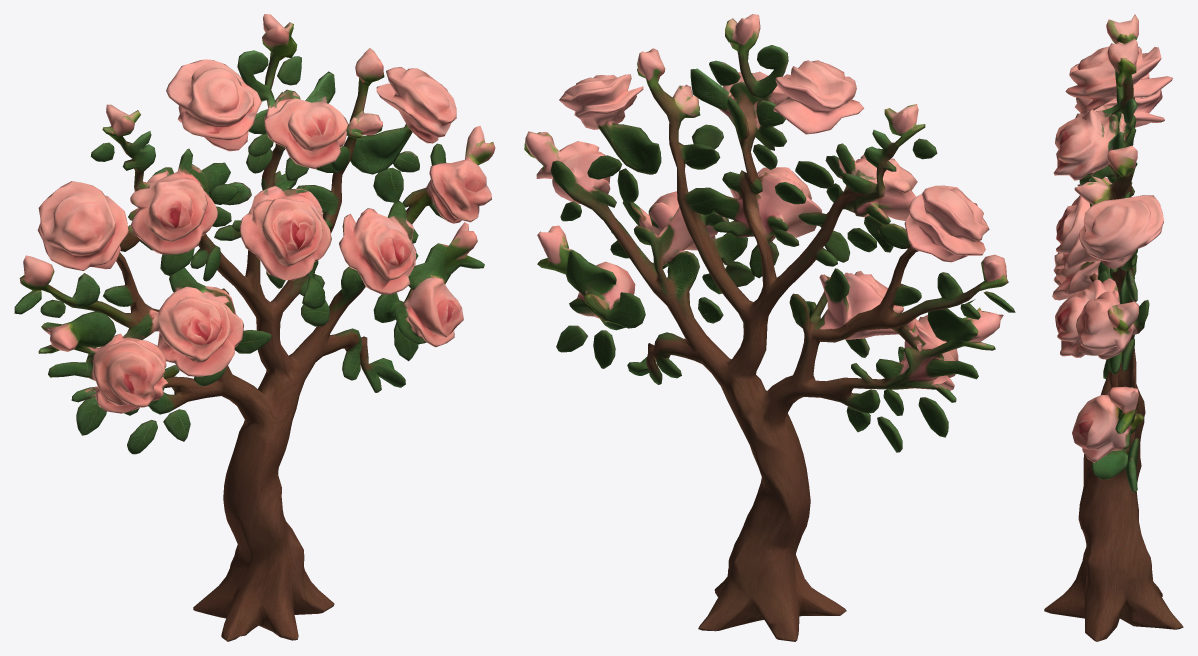
File: rose-tree-compressed.glb
3 views of the same model, side by side, from view 1: azimuth 30°, elevation 25°; view 2: azimuth 150°, elevation 25°; view 3: azimuth 270°, elevation 25° (orthographic). The views are drawn at different scales.
Visible parts, largest first — view 1: Mesh_0; view 2: Mesh_0; view 3: Mesh_0.
Boxes of the visible parts, x1,y1,x2,y2 form: Mesh_0: (14, 14, 495, 641); Mesh_0: (524, 14, 1015, 641); Mesh_0: (1044, 14, 1183, 641).
Bounding box in the file's own units: 1.7 × 2 × 0.4353.
1 material, 1 textured.
